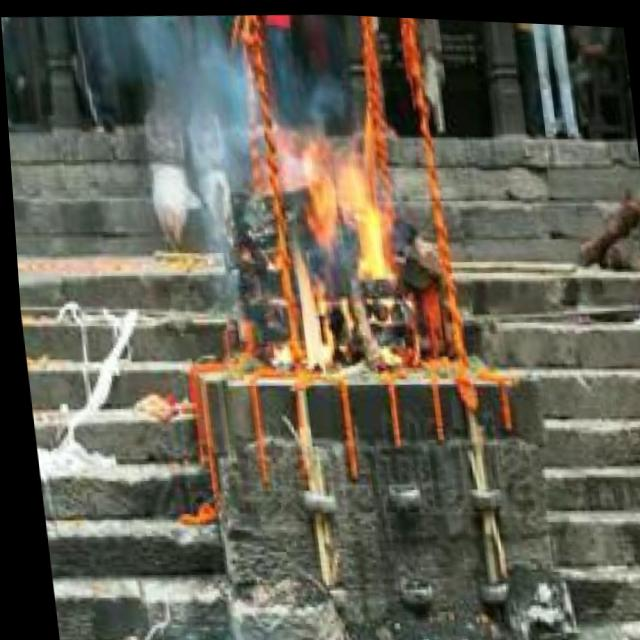Fire: (272, 127, 413, 376)
